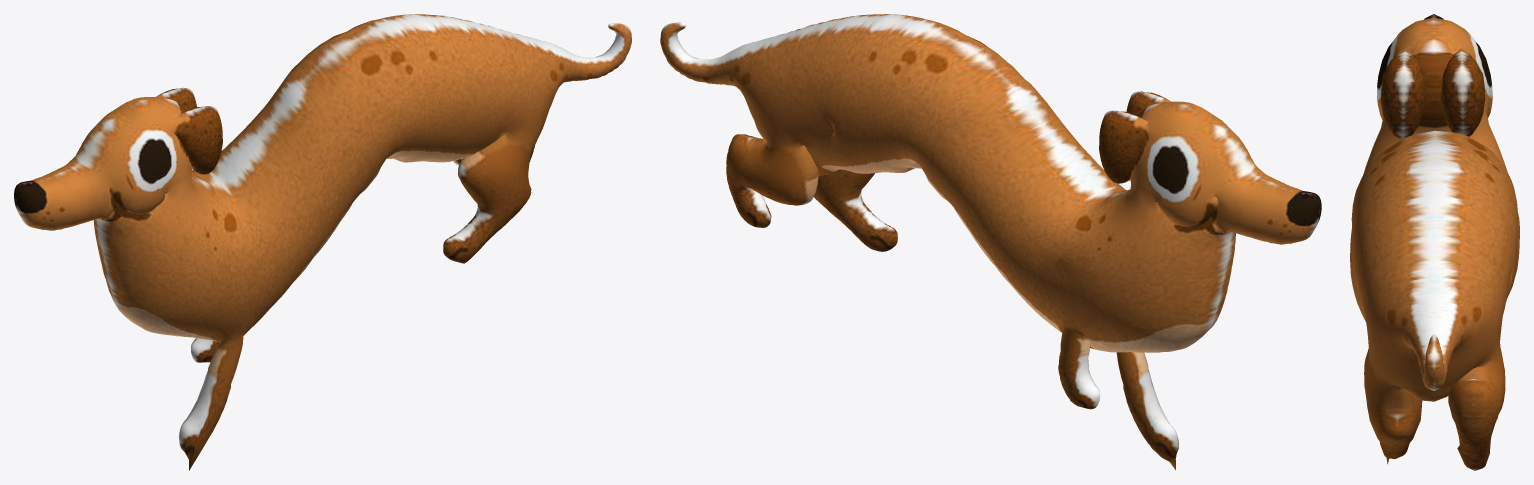
The model's file is Doggy.glb.
3 renders of one model, left to right at view 1: azimuth 30°, elevation 25°; view 2: azimuth 150°, elevation 25°; view 3: azimuth 270°, elevation 25°, orthographic. The views are drawn at different scales.
Size of the model in its own units: 6.52 by 3.82 by 1.32.
1 material, 1 textured.
